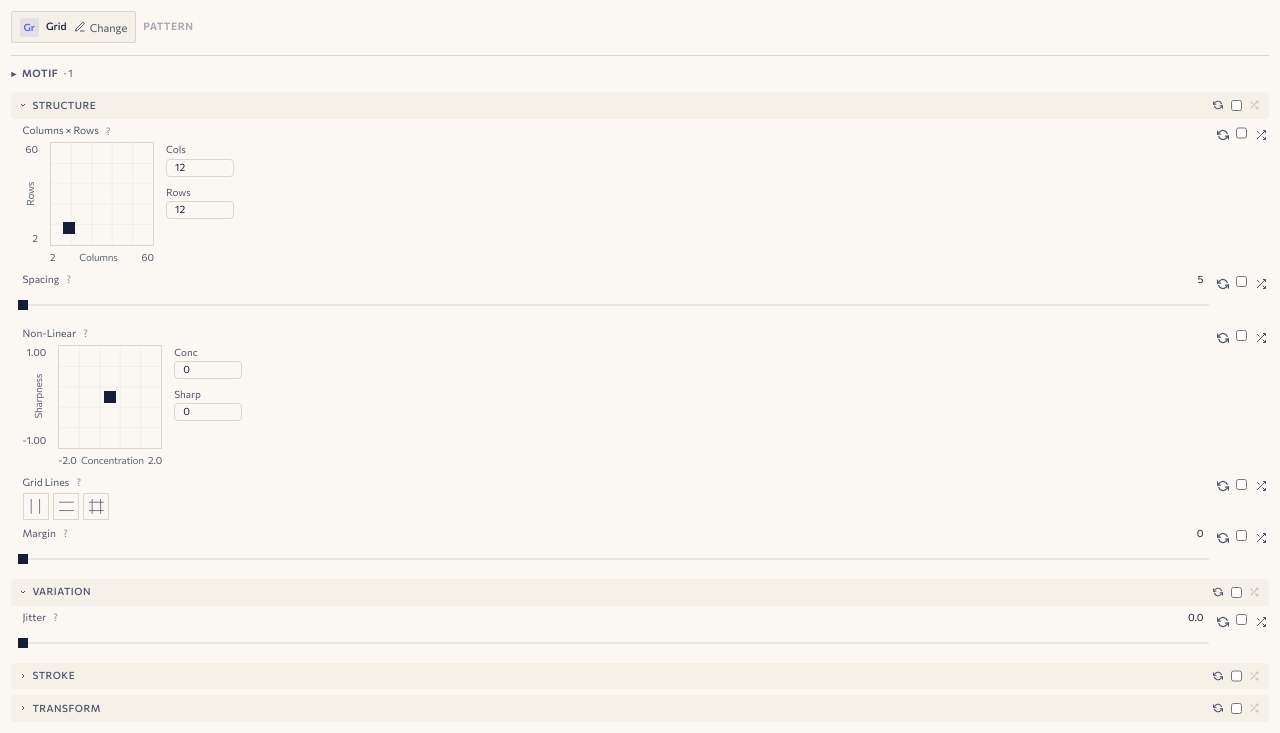
Test case: Sequencer card (C3) › a hidden slot keeps its thumbnail and controls; a pure Rest keeps neither
The width and height of the screenshot is (1280, 733).
Step 1. Click the button with test id "motif-toggle" → coordinates (40, 73), box left=11, top=67, right=1269, bottom=81
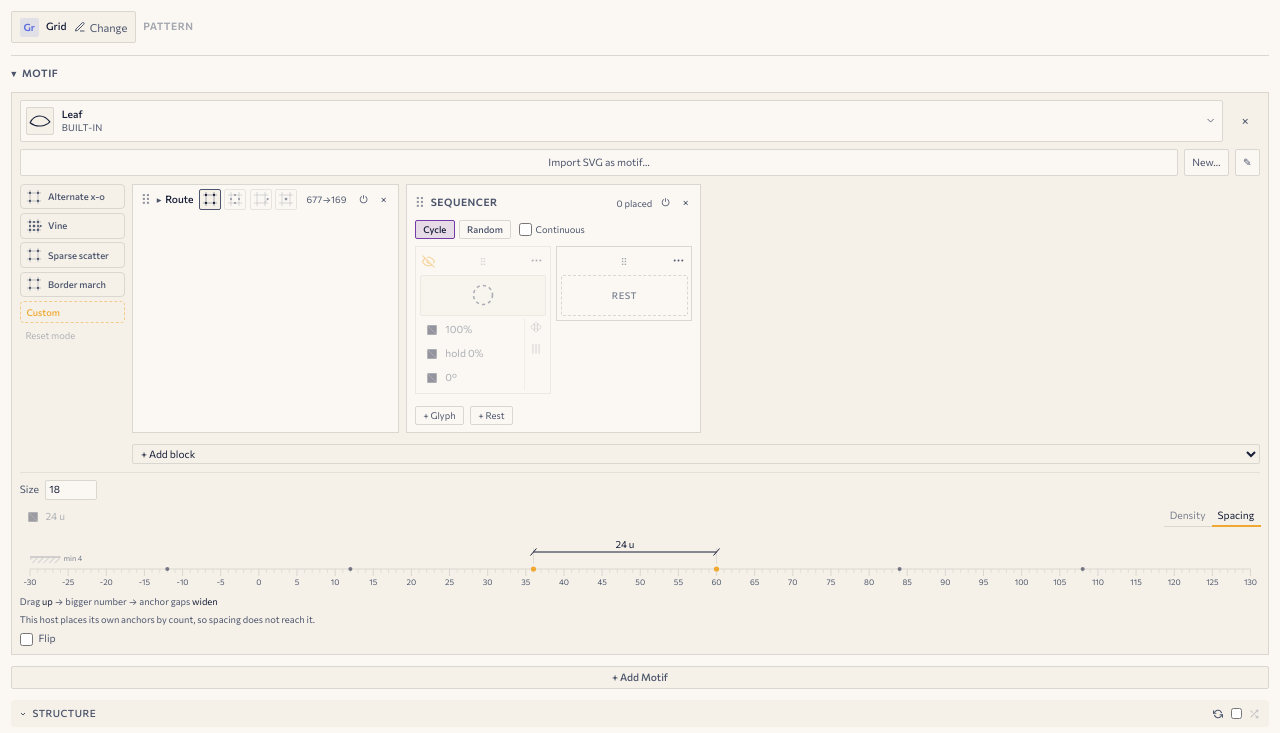
Result: the button with test id "motif-slot-eye" is shown at left=420, top=252, right=438, bottom=271
Result: the slider with test id "motif-slot-scale" is shown at left=423, top=318, right=472, bottom=342
Result: the text "Rest" is shown at left=561, top=275, right=688, bottom=316
